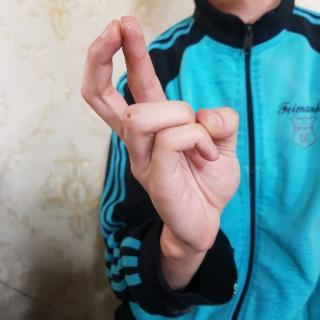ZAY: (78, 12, 245, 264)
